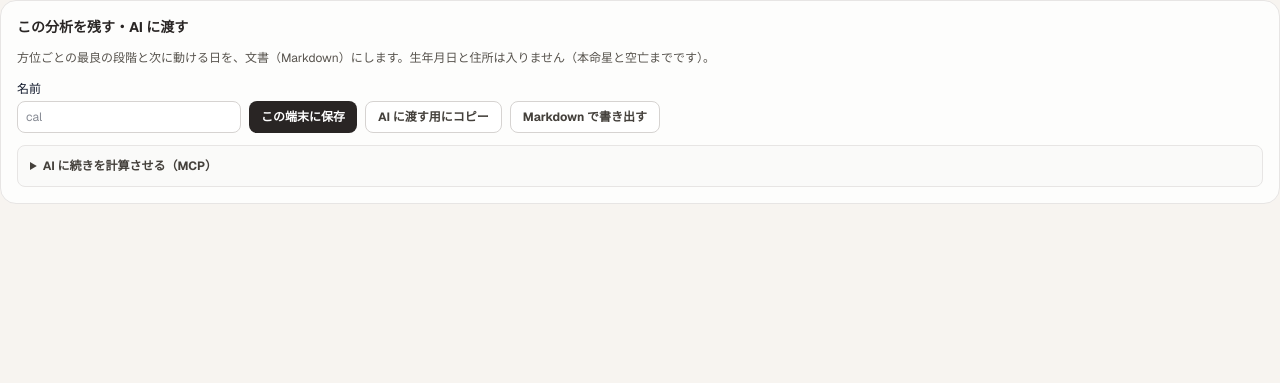
Test case: SavedAnalysisPanel › 他の頁の保存は並べない（kind で分ける）
The image size is (1280, 383).
Click the button "この端末に保存" at (303, 116), box x1=249 y1=100 x2=357 y2=132
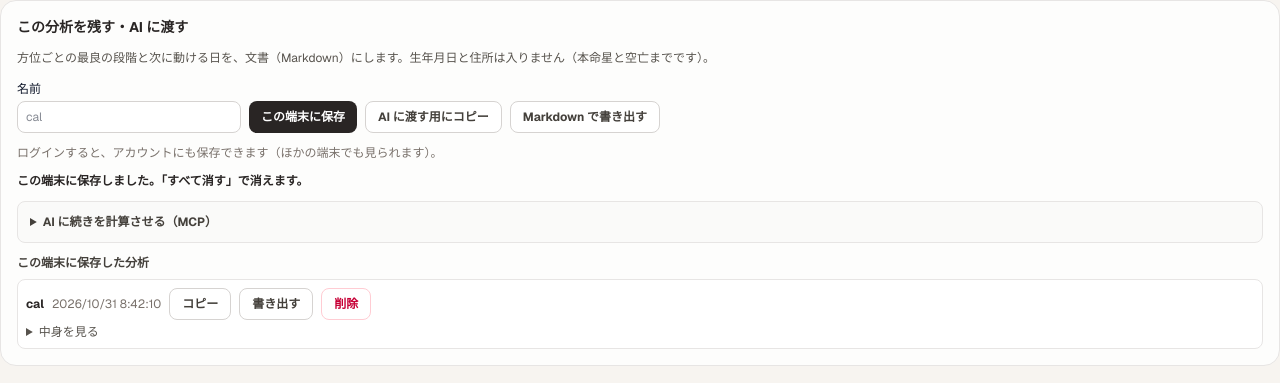
Result: the text "cal" is shown at x1=26 y1=296 x2=44 y2=312
